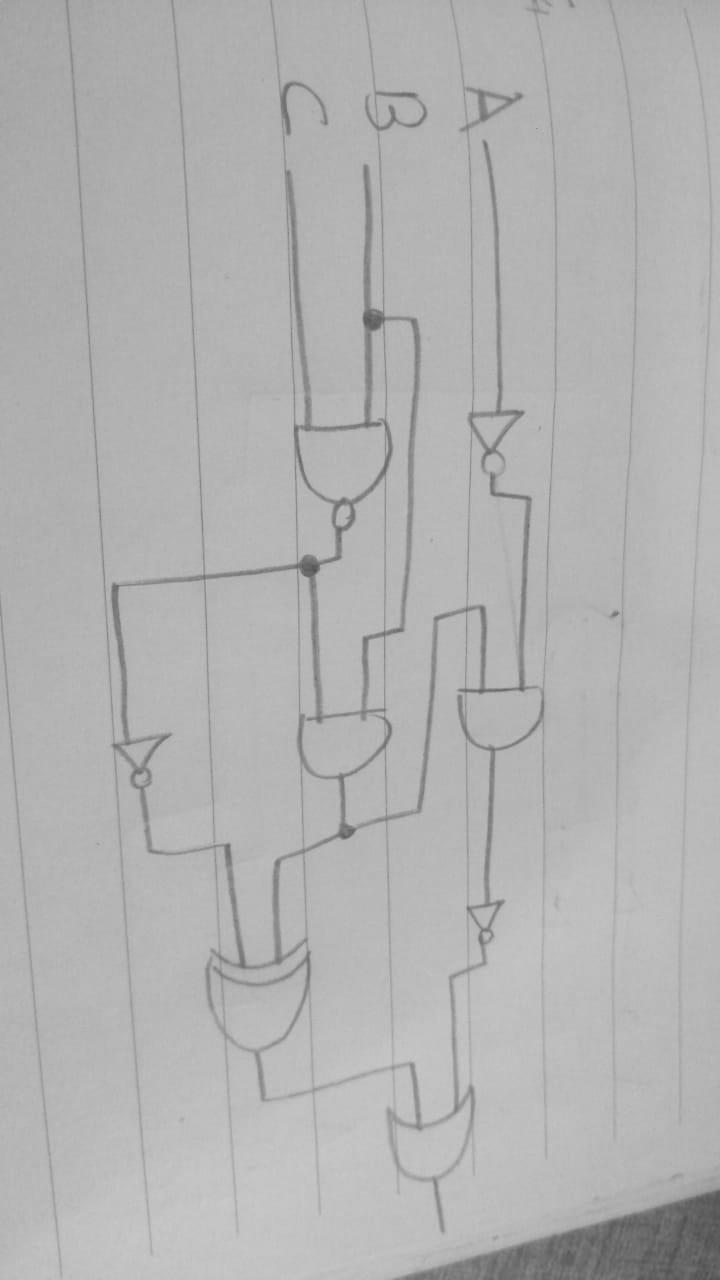AND: (285, 695, 407, 796), (448, 670, 567, 766)
NAND: (285, 400, 395, 537)
NOT: (83, 708, 188, 795), (443, 395, 537, 480), (445, 890, 527, 957)
OR: (373, 1085, 505, 1196)
XOR: (185, 928, 347, 1068)
